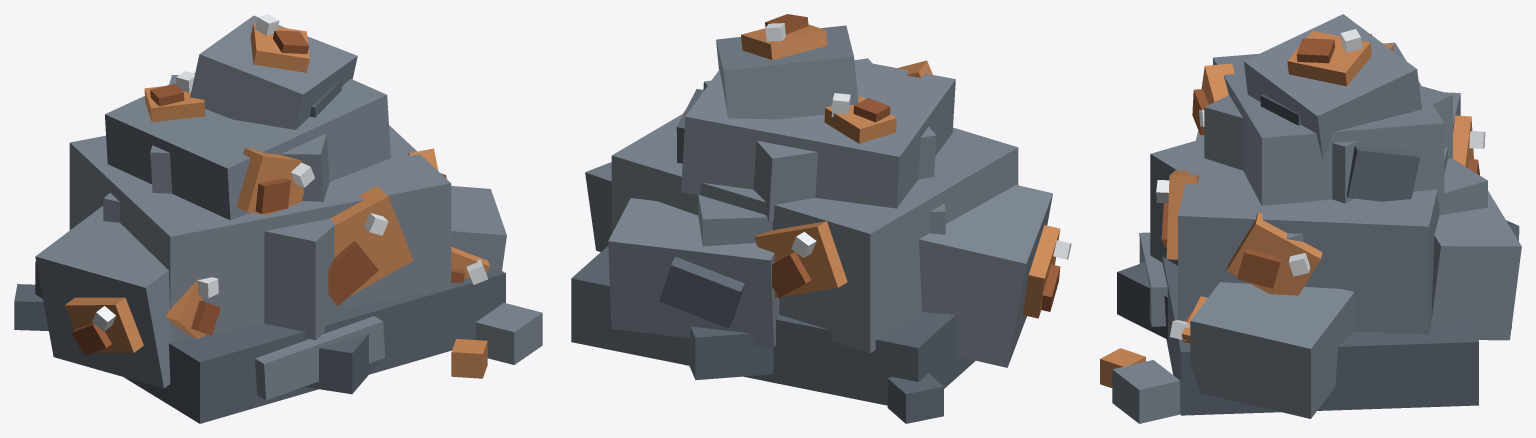
The model's file is IronOre.glb.
The picture shows the model from 3 angles, left to right: view 1: azimuth 30°, elevation 25°; view 2: azimuth 150°, elevation 25°; view 3: azimuth 270°, elevation 25°; orthographic projection. The views are drawn at different scales.
Parts seen in each view (by area): view 1: Body, Upper, Base, LumpL, Cap, BodyRound, PlateFrontLow, OreFrontA, LumpR, Pebble1, BaseRound, UpperRound (+14 smaller); view 2: Body, Upper, Base, LumpL, LumpBack, Cap, UpperRound, BaseRound, PlateBackL, OreBack, BodyRound, Pebble2 (+9 smaller); view 3: Body, LumpR, Base, Upper, Cap, LumpBack, UpperRound, BodyRound, PlateSideR, Pebble1, OreSideR, OreTop (+12 smaller).
Part boxes in pixels (x1,y1,x2,y2): Body: [69, 125, 451, 340]; Upper: [105, 73, 390, 220]; Base: [35, 261, 505, 423]; LumpL: [35, 206, 173, 388]; Cap: [190, 15, 357, 129]; BodyRound: [103, 193, 344, 339]; PlateFrontLow: [255, 316, 385, 400]; OreFrontA: [330, 186, 413, 304]; LumpR: [451, 186, 506, 270]; Pebble1: [475, 303, 542, 364]; BaseRound: [304, 333, 378, 394]; UpperRound: [150, 75, 329, 201]; Body: [611, 113, 1018, 352]; Upper: [681, 60, 955, 208]; Base: [571, 246, 975, 405]; LumpL: [919, 185, 1052, 367]; LumpBack: [608, 198, 779, 348]; Cap: [716, 25, 858, 119]; UpperRound: [703, 58, 936, 221]; BaseRound: [685, 326, 969, 380]; PlateBackL: [659, 256, 744, 328]; OreBack: [754, 221, 847, 298]; BodyRound: [698, 195, 945, 246]; Pebble2: [887, 373, 943, 423]; Body: [1178, 92, 1460, 334]; LumpR: [1190, 282, 1354, 418]; Base: [1162, 257, 1478, 415]; Upper: [1213, 42, 1444, 205]; Cap: [1244, 14, 1421, 159]; LumpBack: [1431, 191, 1521, 340]; UpperRound: [1204, 86, 1452, 203]; BodyRound: [1150, 141, 1487, 265]; PlateSideR: [1346, 144, 1419, 201]; Pebble1: [1112, 360, 1180, 423]; OreSideR: [1227, 212, 1322, 295]; OreTop: [1287, 30, 1371, 86].
Bounding box in the file's own units: 11.24 × 7.19 × 9.03.
